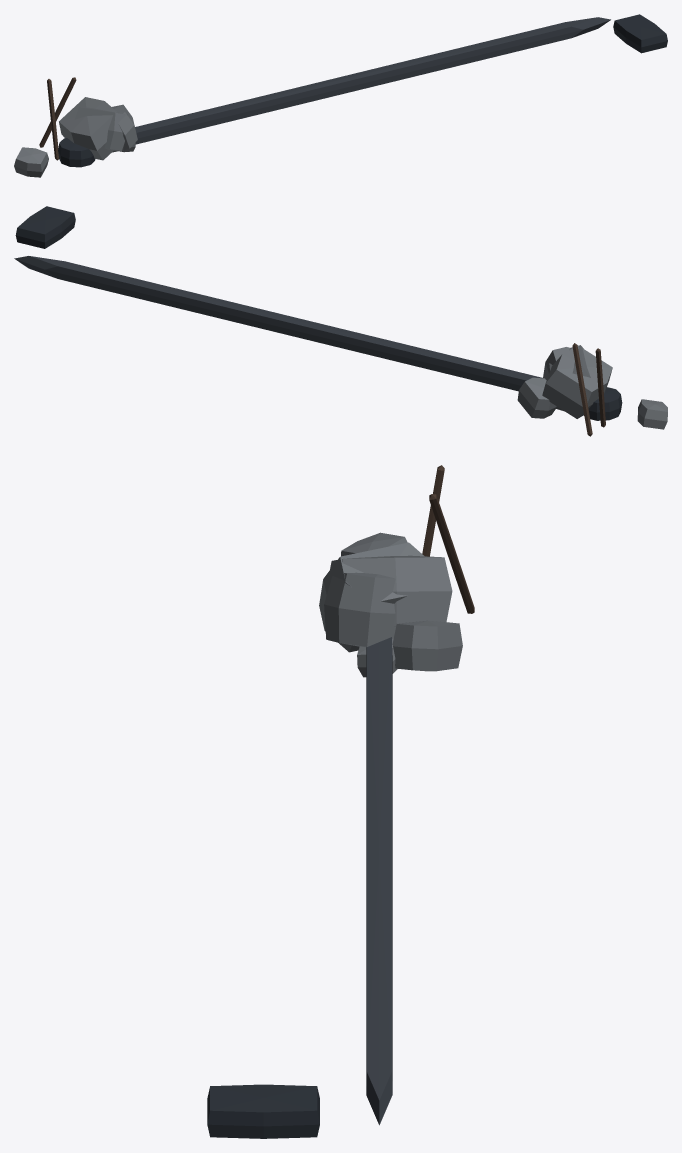
File: s-lamp-fallen.glb
The picture shows the model from 3 angles, top to bottom: view 1: azimuth 30°, elevation 25°; view 2: azimuth 150°, elevation 25°; view 3: azimuth 270°, elevation 25°; orthographic projection. The views are drawn at different scales.
Visible parts, largest first — view 1: p; view 2: p; view 3: p.
Boxes of the visible parts, x1=… form: p: x1=14, y1=14, x2=667, y2=177; p: x1=14, y1=206, x2=667, y2=436; p: x1=207, y1=465, x2=474, y2=1138.
Size of the model in its own units: 7.32 by 0.8886 by 1.39.
